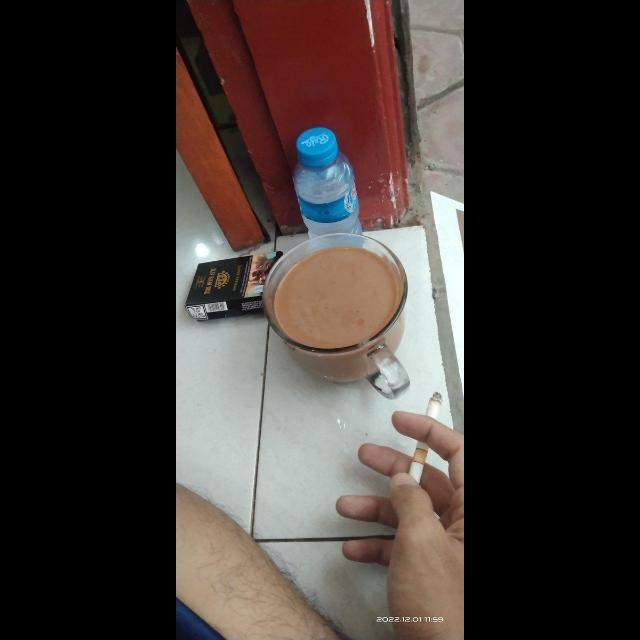rokok: (406, 388, 452, 487)
